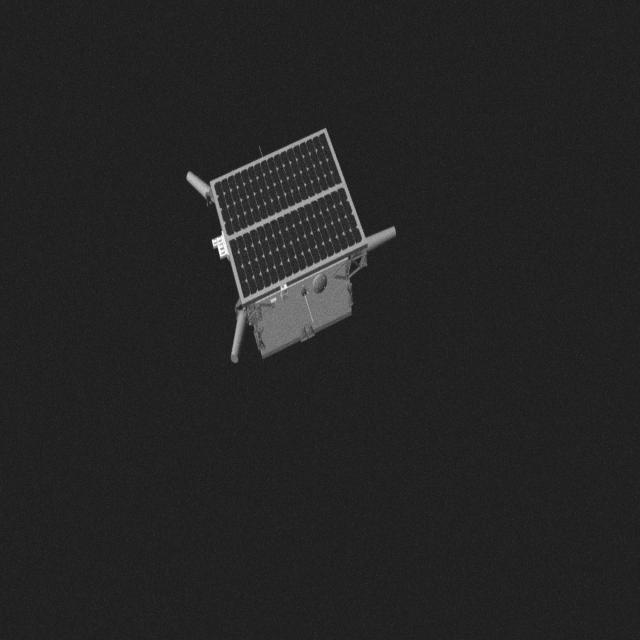medium_debris: (180, 126, 398, 372)
